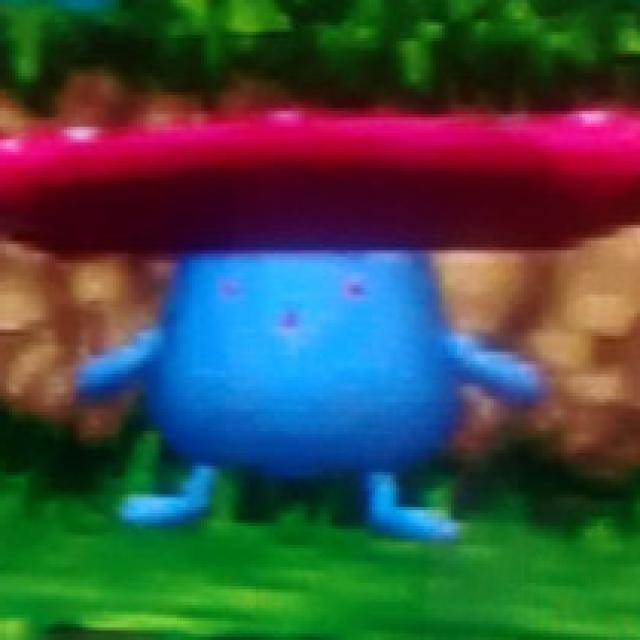Vileplume: (64, 93, 560, 542)
